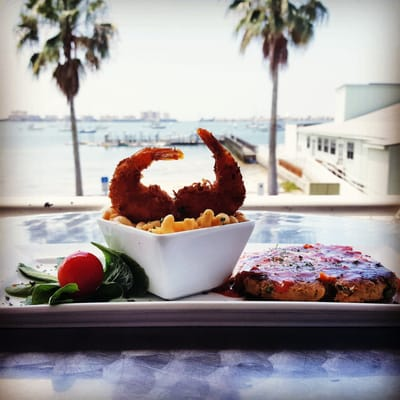sushi: (95, 212, 257, 300)
